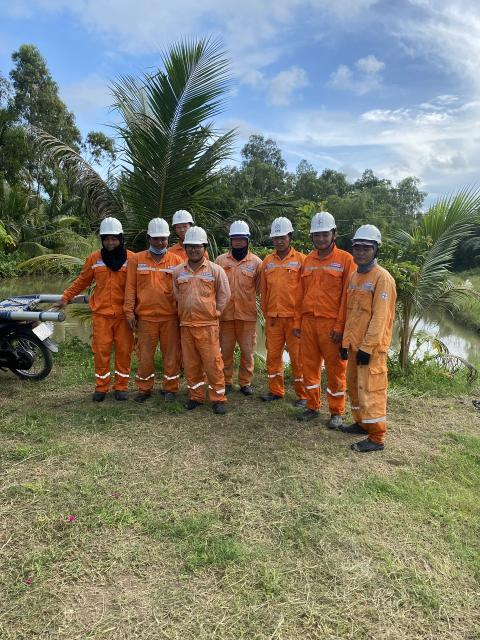gloves: (349, 348, 375, 366), (339, 341, 350, 363)
helmet: (95, 214, 128, 241), (180, 224, 213, 249), (350, 224, 384, 248), (305, 212, 338, 234), (143, 217, 173, 240), (226, 217, 253, 240), (270, 217, 296, 238), (169, 208, 195, 226)
shoes: (345, 432, 385, 453), (335, 415, 368, 436), (289, 404, 320, 424), (178, 395, 210, 411), (324, 408, 344, 431), (129, 388, 154, 406), (258, 387, 286, 403), (109, 386, 133, 404), (159, 385, 177, 403), (292, 393, 311, 409), (240, 377, 255, 397), (90, 387, 107, 404), (212, 400, 229, 413), (221, 381, 235, 395)
